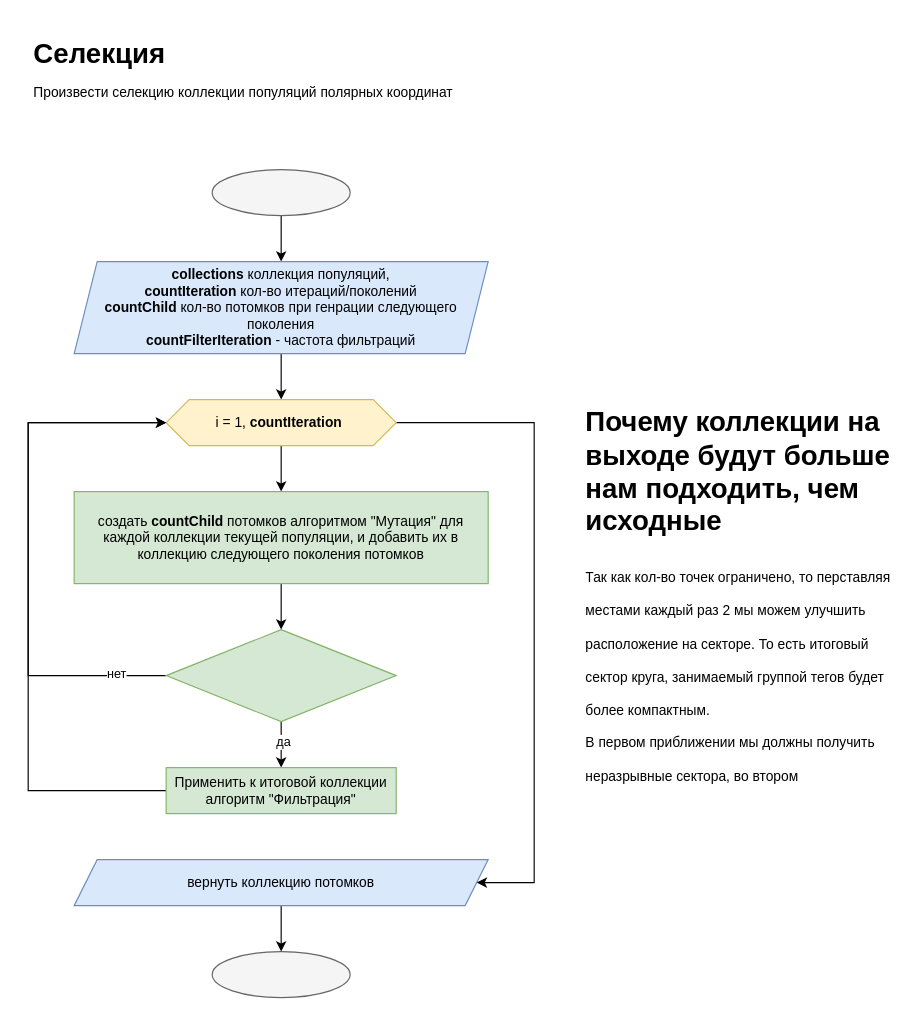
The diagram is 922 pixels wide and 1018 high, and some of its shapes have lost their labels. The shapes that lost their labels are listed below. From the top down, each one's box as (x1, y1, x2, y2) in pixels, then its label:
(211, 168, 350, 216): начало
(165, 628, 396, 722): i % countFilterIteration == 0
(211, 950, 350, 998): конец
